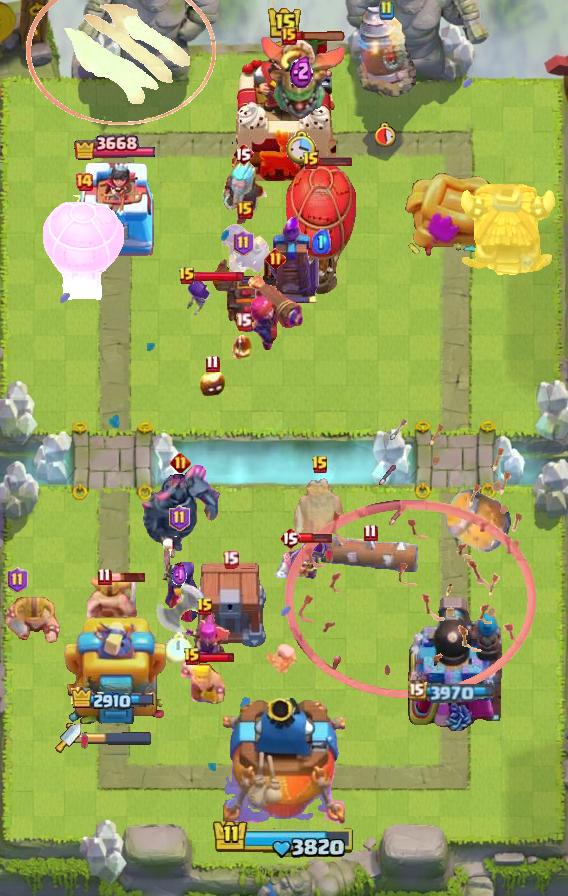archer: (178, 658, 230, 704)
archer-evolution: (206, 253, 280, 335)
axe: (156, 536, 202, 624)
bar: (62, 611, 166, 731)
bomb: (191, 563, 269, 649)
bomber: (198, 369, 226, 397), (232, 333, 254, 359)
cannon-cart: (285, 158, 357, 298), (40, 195, 128, 303)
clock: (212, 818, 356, 860)
dirt: (444, 485, 514, 555)
electro-spirit: (290, 53, 313, 87), (312, 229, 331, 254), (172, 564, 187, 588)
elixir: (287, 131, 317, 166), (165, 632, 193, 664), (375, 122, 397, 147)
emote: (194, 270, 246, 283), (295, 31, 347, 42), (109, 571, 146, 583), (200, 652, 237, 664), (317, 155, 353, 167), (299, 532, 333, 544)
evolution-symbol: (180, 611, 230, 667)
firecracker-evolution: (271, 535, 333, 581)
goblin: (184, 277, 214, 317)
goblin-ball: (218, 222, 272, 278)
goblin-giant: (0, 595, 62, 647), (87, 575, 139, 625)
golemite: (138, 462, 222, 560)
heal-spirit: (267, 644, 301, 674)
ice-spirit-evolution-symbol: (262, 213, 322, 305)
ice-wizard: (26, 0, 216, 124)
king-tower: (223, 698, 345, 826), (232, 39, 336, 181)
king-tower-bar: (81, 731, 153, 745)
magic-archer: (356, 6, 416, 98)
mega-minion: (245, 272, 305, 352)
minion: (319, 536, 421, 572)
mortar: (213, 156, 273, 228)
mortar-evolution: (292, 476, 348, 542)
night-witch: (254, 33, 348, 121)
prince: (456, 184, 558, 280)
queen-tower: (69, 158, 159, 256)
royal-giant: (155, 583, 213, 645)
selected: (73, 132, 154, 164), (71, 687, 157, 713), (408, 680, 498, 703)
skeleton-barrel: (283, 418, 537, 698)
text: (233, 230, 254, 256), (169, 505, 190, 531), (7, 567, 28, 593), (232, 142, 254, 166), (279, 526, 301, 550), (169, 451, 190, 473), (265, 247, 286, 268), (74, 172, 94, 192), (302, 151, 320, 171), (178, 266, 196, 286), (311, 455, 329, 475), (196, 597, 214, 617), (183, 647, 201, 667), (378, 0, 394, 20), (235, 313, 252, 331), (222, 551, 239, 569), (281, 27, 297, 45), (237, 201, 253, 219), (204, 355, 219, 373), (362, 523, 377, 541), (97, 567, 112, 585)
tower-bar: (404, 593, 502, 731)
